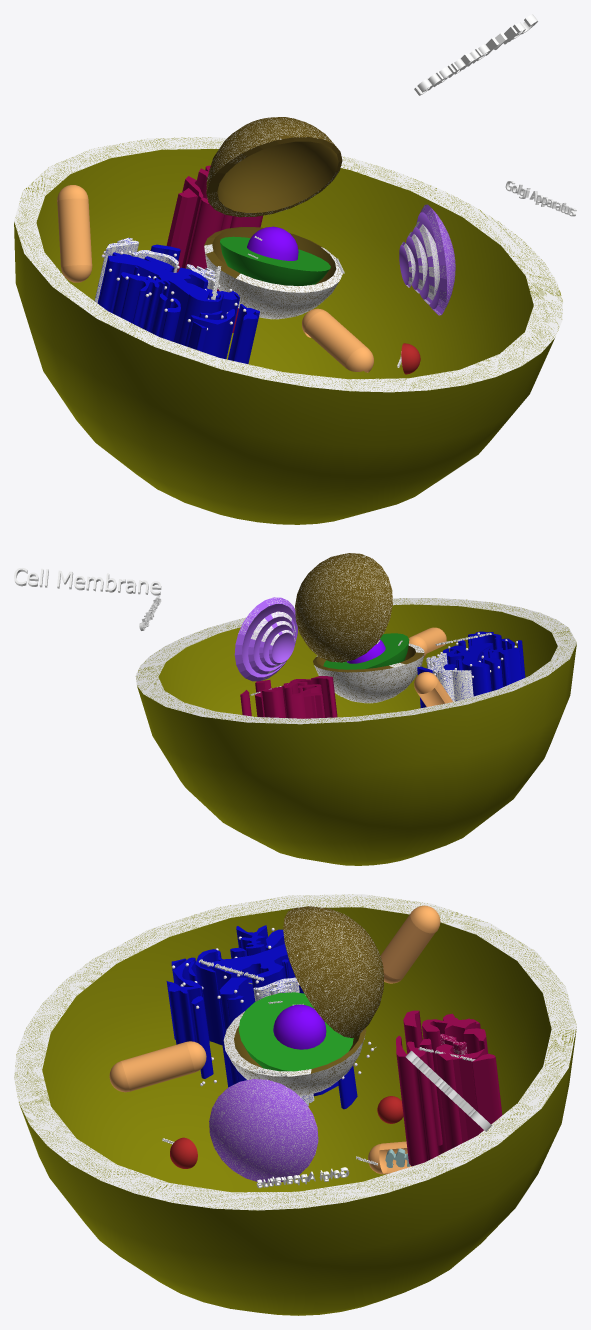
3 views of the same model, one above another, from view 1: azimuth 30°, elevation 25°; view 2: azimuth 150°, elevation 25°; view 3: azimuth 270°, elevation 25° (orthographic). The views are drawn at different scales.
Visible parts, largest first — view 1: SketchUp (×7), rouph_endoplasmic_reticlum (×5), Mitochondria_1 (×2), Golgi_Bodies_3d (×3), Smooth_Endoplasmic_Reticlum (×2); view 2: SketchUp (×5), Golgi_Bodies_3d (×4), rouph_endoplasmic_reticlum (×3), Smooth_Endoplasmic_Reticlum (×2), Mitochondria_1 (×2); view 3: SketchUp (×6), Smooth_Endoplasmic_Reticlum (×5), rouph_endoplasmic_reticlum (×7), Golgi_Bodies_3d, Mitochondria_1 (×2), Mitochondria, Lysosome, Lysosome_1.
Part boxes in pixels (x1,y1,x2,y2): SketchUp (×7): (14, 117, 563, 524); rouph_endoplasmic_reticlum (×5): (97, 255, 257, 363); Mitochondria_1 (×2): (57, 185, 373, 372); Golgi_Bodies_3d (×3): (406, 204, 455, 315); Smooth_Endoplasmic_Reticlum (×2): (166, 165, 224, 272); SketchUp (×5): (135, 553, 576, 865); Golgi_Bodies_3d (×4): (234, 597, 297, 681); rouph_endoplasmic_reticlum (×3): (437, 643, 522, 701); Smooth_Endoplasmic_Reticlum (×2): (255, 676, 337, 718); Mitochondria_1 (×2): (408, 627, 452, 706); SketchUp (×6): (14, 894, 576, 1315); Smooth_Endoplasmic_Reticlum (×5): (396, 1010, 502, 1166); rouph_endoplasmic_reticlum (×7): (166, 925, 357, 1109); Golgi_Bodies_3d: (209, 1079, 318, 1183); Mitochondria_1 (×2): (109, 905, 440, 1092); Mitochondria: (368, 1141, 411, 1174); Lysosome: (170, 1137, 197, 1168); Lysosome_1: (378, 1096, 403, 1123).
Size of the model in its own units: 83098 by 69185 by 50648.
